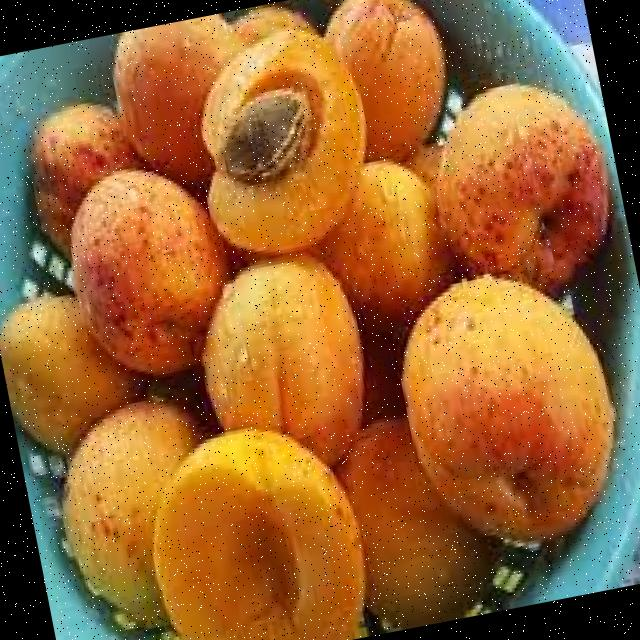Cekirdek: (223, 88, 309, 180)
Kayisi: (205, 258, 365, 462)
